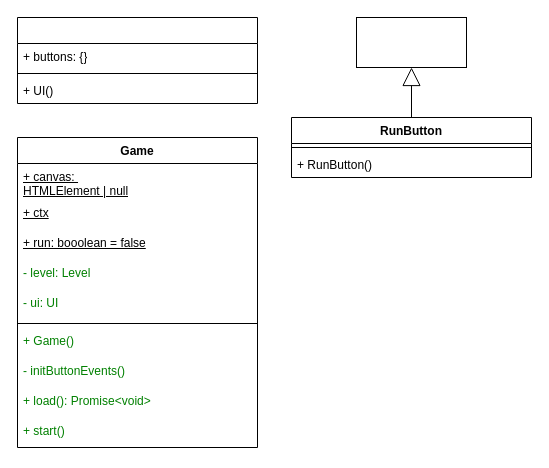
Some shapes in this 549 by 468 pixel diagram are drawn without their labels. The box of each missing label's shape, as (x1, y1, x2, y2) in pixels:
TextButton: (356, 16, 466, 68)
UI: (16, 16, 258, 104)
